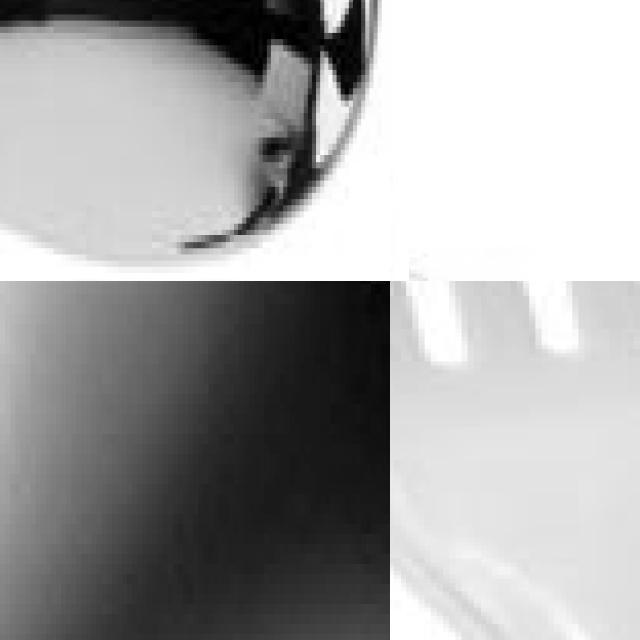spoons: (0, 281, 390, 640), (0, 0, 390, 281), (390, 142, 499, 281)
